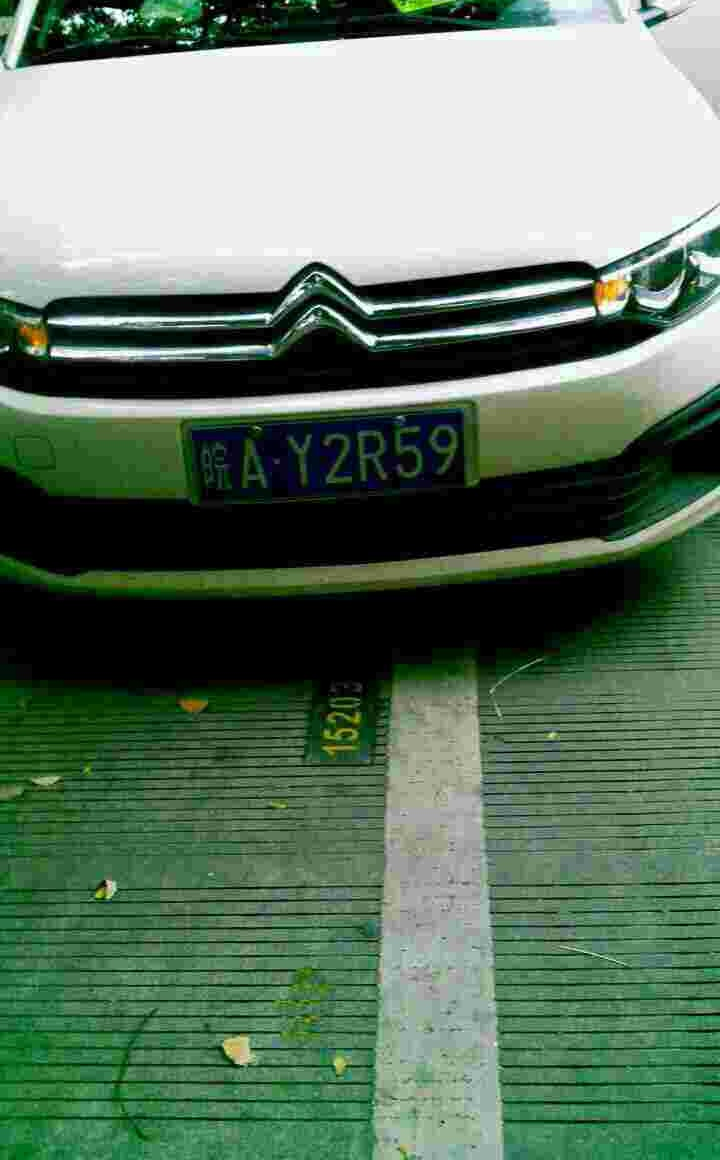license_plate: (197, 421, 462, 506)
